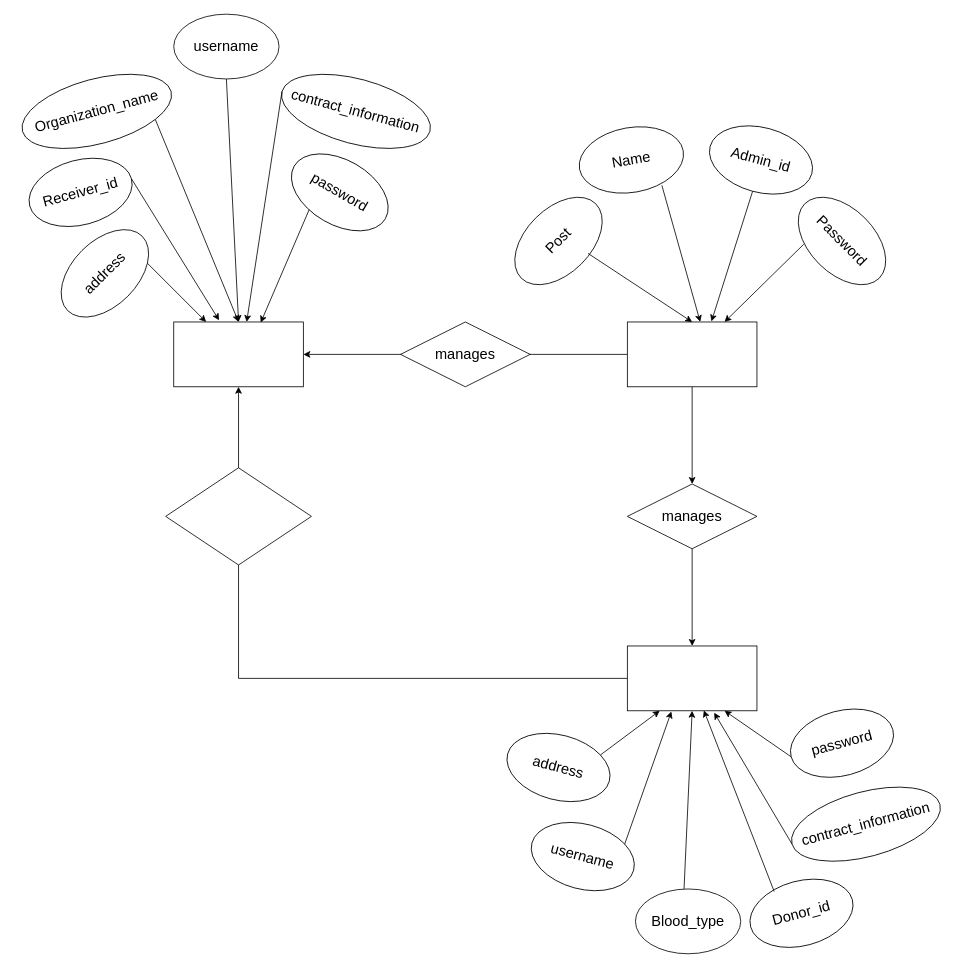
The diagram is 963 pixels wide and 973 high, and some of its shapes have lost their labels. Here are the shapes that lost their labels. From the top down, the centre of each, then its label:
the point at 238,354: Receiver
the point at 692,354: Admin
the point at 238,516: Donates_blood_to
the point at 692,678: Donor
